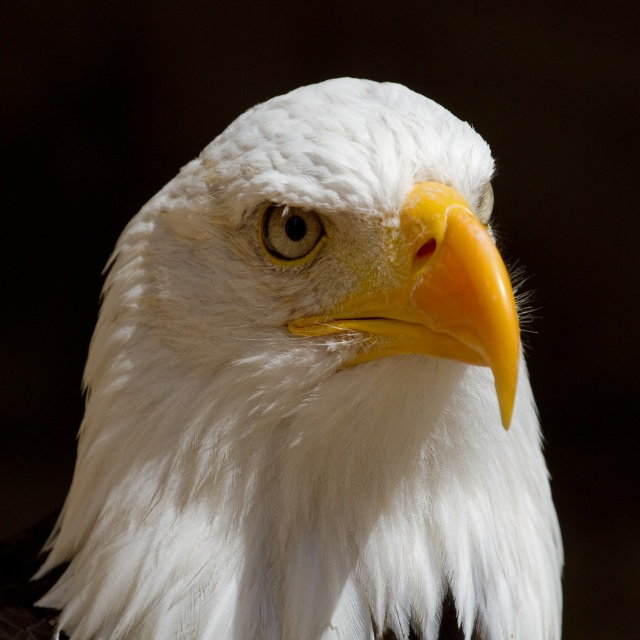Eagle: (32, 75, 564, 640)
